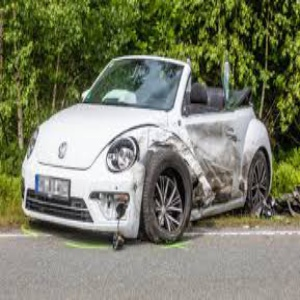head_lights: (88, 191, 132, 248)
